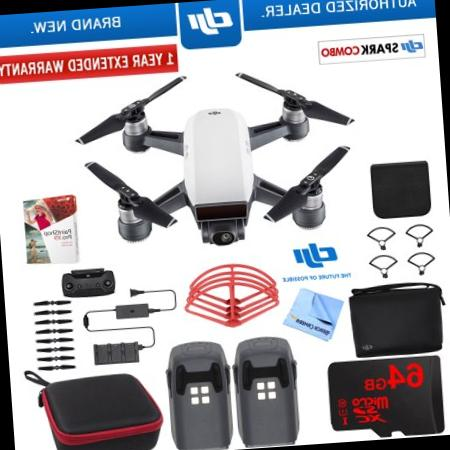drone: (62, 62, 367, 258)
